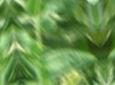Tomato mold leaf: (36, 44, 100, 81), (29, 0, 87, 27)
